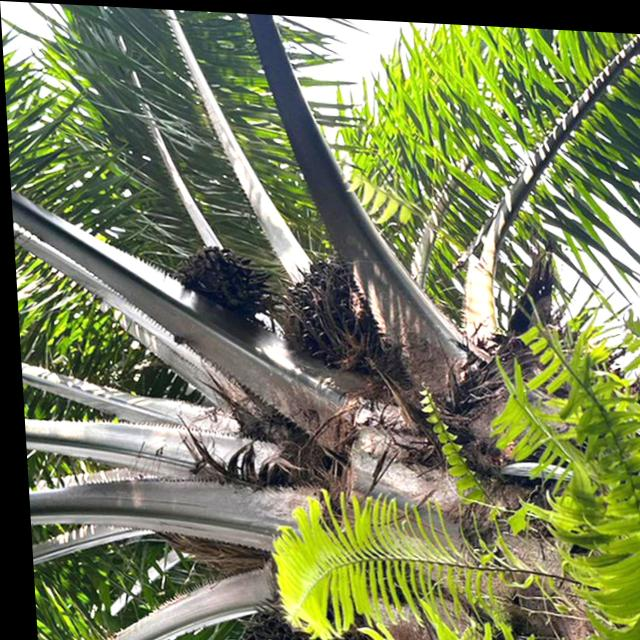ripe: (273, 255, 394, 382)
